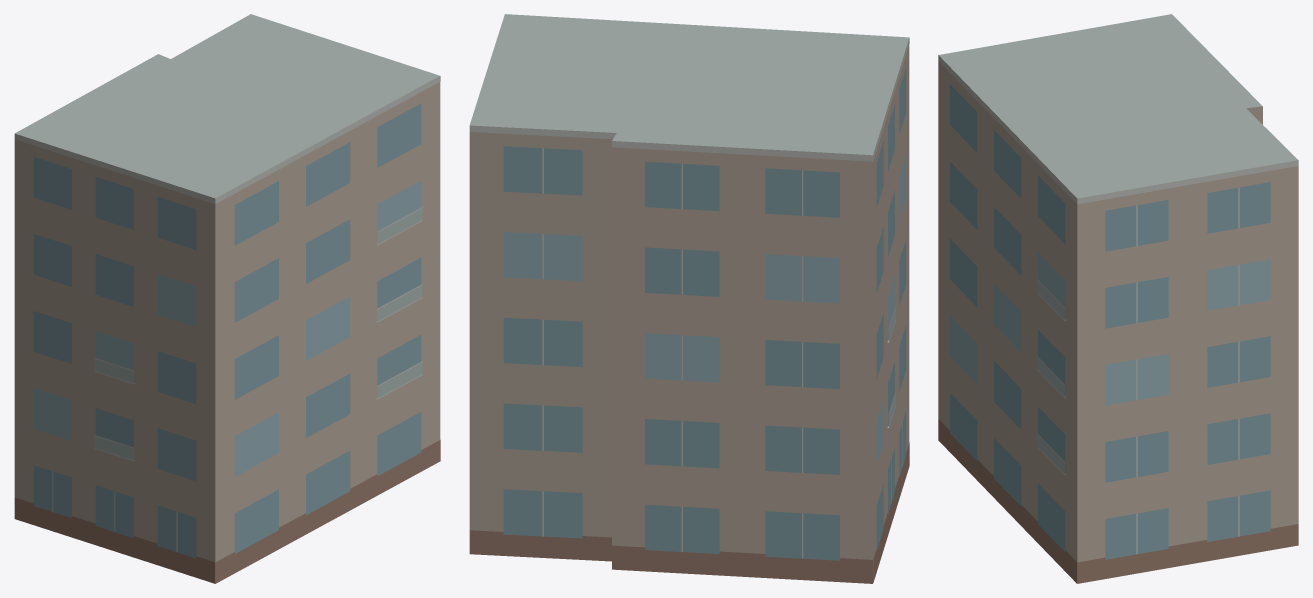
Rendered from survey-upis-33046642.glb.
3 renders of one model, left to right at view 1: azimuth 30°, elevation 25°; view 2: azimuth 150°, elevation 25°; view 3: azimuth 270°, elevation 25°, orthographic. The views are drawn at different scales.
Parts seen in each view (by area): view 1: survey-upis-33046642.tmp; view 2: survey-upis-33046642.tmp; view 3: survey-upis-33046642.tmp.
Part boxes in pixels (x1,y1,x2,y2): survey-upis-33046642.tmp: [14, 14, 440, 583]; survey-upis-33046642.tmp: [469, 14, 909, 583]; survey-upis-33046642.tmp: [938, 14, 1298, 583].
Size of the model in its own units: 16.81 by 16.35 by 13.86.
